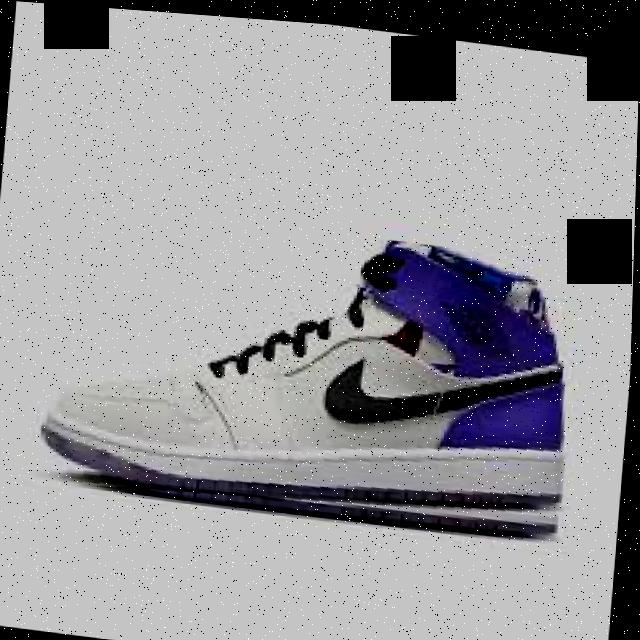shoe: (40, 196, 586, 540)
